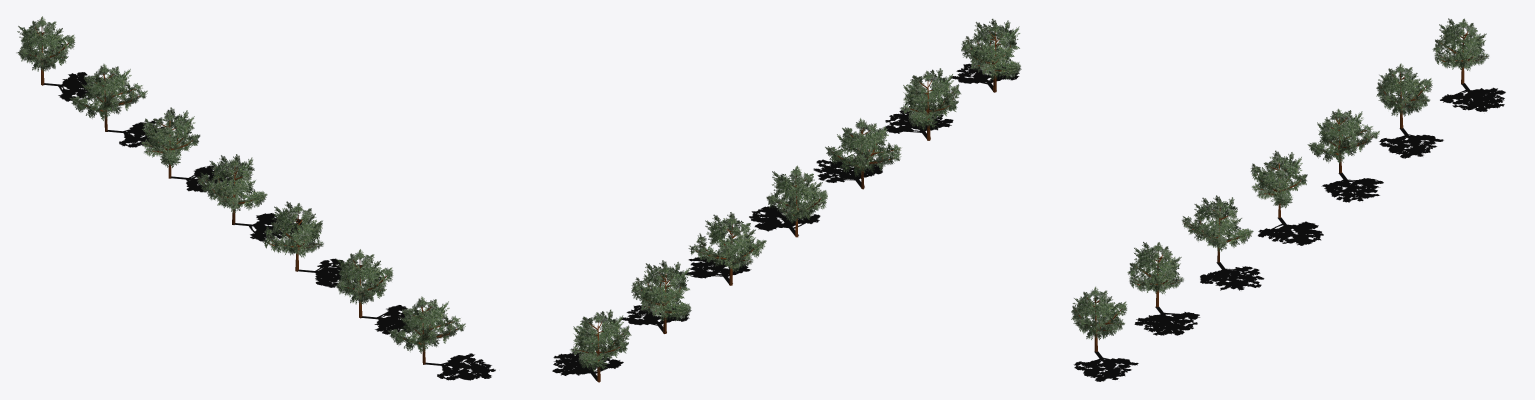
File: treelineNS2.glb
3 views of the same model, side by side, from view 1: azimuth 30°, elevation 25°; view 2: azimuth 150°, elevation 25°; view 3: azimuth 330°, elevation 25° (orthographic). The views are drawn at different scales.
Visible parts, largest first — view 1: treelineNS; view 2: treelineNS; view 3: treelineNS.
Part boxes in pixels (x1,y1,x2,y2): treelineNS: (16,16,495,380); treelineNS: (552,18,1021,382); treelineNS: (1071,18,1505,381).
Size of the model in its own units: 24.91 by 15.19 by 174.
Materials: 9 (8 with a texture image).
